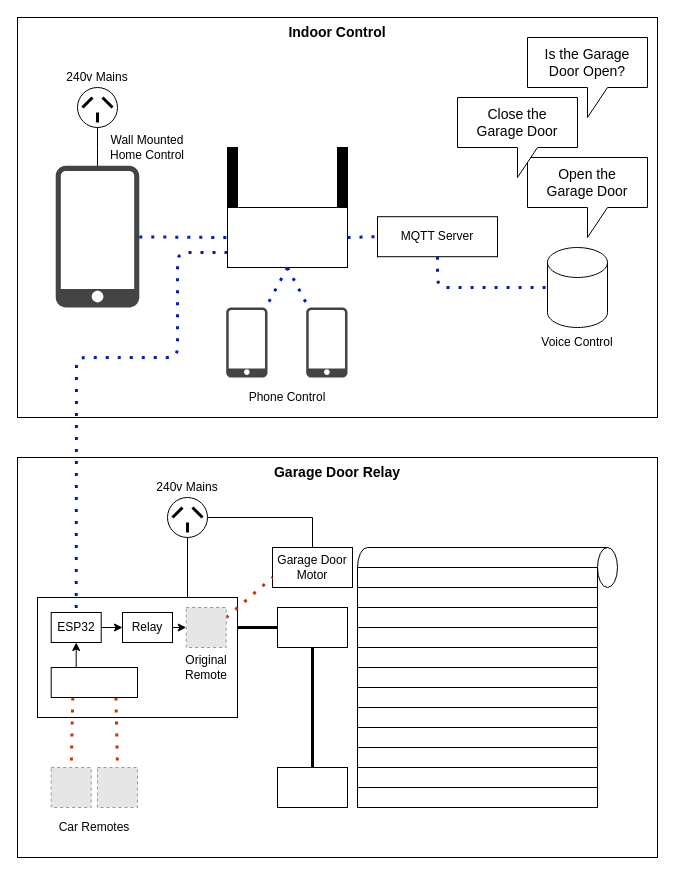
Some shapes in this 675 by 875 pixel diagram are drawn without their labels. Grey dashed boxes stand in for pictures. The shapes that lost their labels are listed below. From the top down, each one's centre as x and y in pixels, then its label:
At pixel 287 237: "WiFi Router".
At pixel 577 287: "Google Home".
At pixel 312 627: "Sensor 1 (Up)".
At pixel 94 682: "433Mhz Receiver".
At pixel 312 787: "Sensor 2 (Down)".
